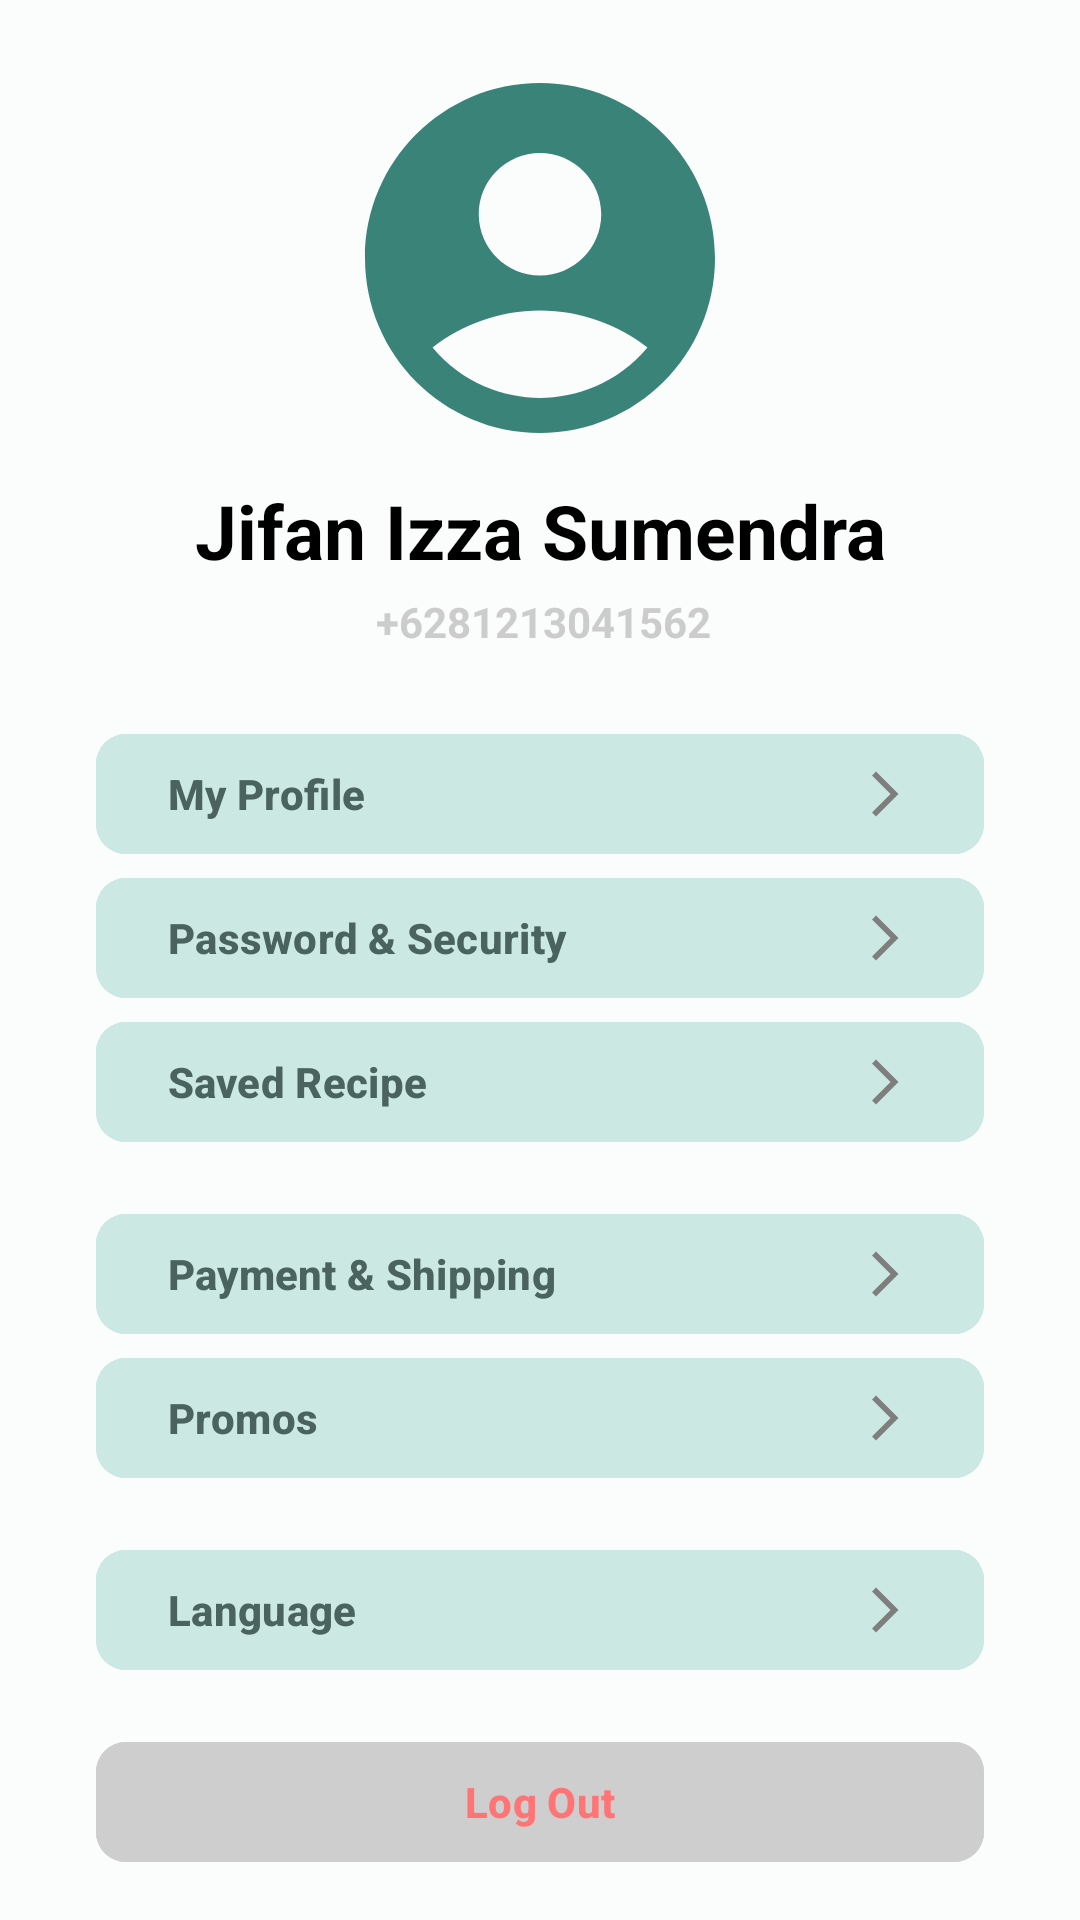

Named icons in this screenshot (1080*1920) and their bounding boxes, (x1, y1, x2, y2):
account: (365, 83, 715, 433)
